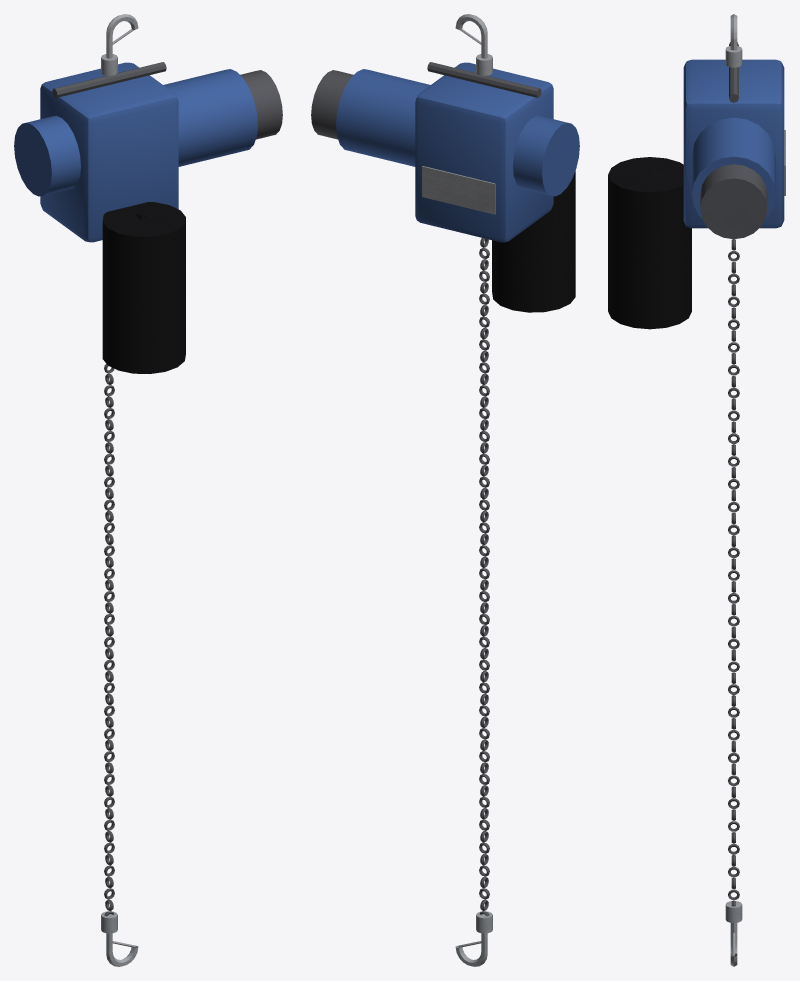
File: chain_hoist_1t.gltf
The picture shows the model from 3 angles, left to right: view 1: azimuth 30°, elevation 25°; view 2: azimuth 150°, elevation 25°; view 3: azimuth 270°, elevation 25°; orthographic projection.
Visible parts, largest first — view 1: chain_hoist_1t; view 2: chain_hoist_1t; view 3: chain_hoist_1t.
Boxes of the visible parts, x1=… form: chain_hoist_1t: x1=14, y1=14, x2=282, y2=966; chain_hoist_1t: x1=311, y1=14, x2=579, y2=966; chain_hoist_1t: x1=608, y1=14, x2=785, y2=966.
Size of the model in its own units: 0.64 by 2.5 by 0.424.
Materials: 5 (4 with a texture image).
